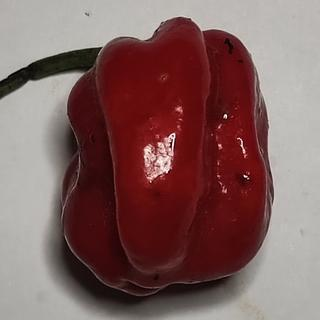Defect: (212, 31, 246, 56)
